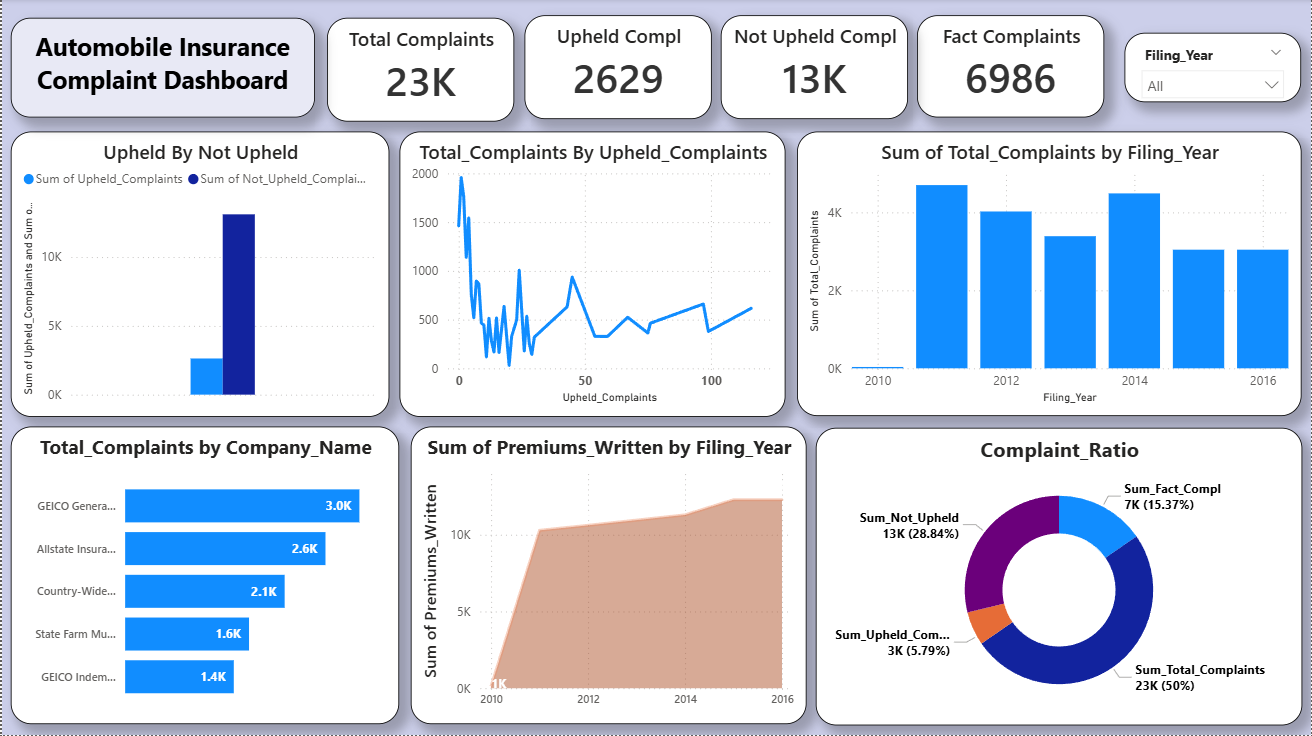

What the dashboard file says about the page in this screenshot:
{"tool":"powerbi","page":{"name":"Page 1","canvas":[1280,720],"ordinal":0},"visuals":[{"type":"card","title":"Total Complaints","fields":{"Values":["Sum(job market analysis.Total_Complaints)"]},"box":[318.1,18,183.4,101.3],"z":0},{"type":"card","title":"Upheld Compl","fields":{"Values":["Sum(job market analysis.Upheld_Complaints)"]},"box":[510.6,15.4,183.4,101.3],"z":1000},{"type":"card","title":"Fact Complaints","fields":{"Values":["Sum(job market analysis.Question_of_Fact_Complaints)"]},"box":[895.1,15.9,183.4,100.3],"z":2000},{"type":"card","title":"Not Upheld Compl","fields":{"Values":["Sum(job market analysis.Not_Upheld_Complaints)"]},"box":[703,15.4,183.4,101.3],"z":3000},{"type":"clusteredColumnChart","title":"Upheld By Not Upheld","fields":{"Y":["Sum(job market analysis.Upheld_Complaints)","Sum(job market analysis.Not_Upheld_Complaints)"]},"box":[8.6,129.6,370.5,278.8],"z":4000},{"type":"lineChart","title":"Total_Complaints By Upheld_Complaints","fields":{"Category":["job market analysis.Upheld_Complaints"],"Y":["Sum(job market analysis.Total_Complaints)"]},"box":[388.9,129.6,377.9,278.8],"z":5000},{"type":"clusteredColumnChart","fields":{"Category":["job market analysis.Filing_Year"],"Y":["Sum(job market analysis.Total_Complaints)"]},"box":[778.1,129.9,493.4,278.5],"z":6000},{"type":"barChart","title":"Total_Complaints by Company_Name","fields":{"Category":["job market analysis.Company_Name"],"Y":["Sum(job market analysis.Total_Complaints)"]},"box":[8.6,418.2,380.3,291],"z":7000},{"type":"areaChart","fields":{"Category":["job market analysis.Filing_Year"],"Y":["Sum(job market analysis.Premiums_Written)"]},"box":[399.7,418.4,387.2,291],"z":8000},{"type":"donutChart","title":"Complaint_Ratio","fields":{"Y":["job market analysis.Sum_Fact_Compl","job market analysis.Sum_Total_Complaints","job market analysis.Sum_Upheld_Complaints","job market analysis.Sum_Not_Upheld"]},"box":[795.6,419.7,475.9,291],"z":9000},{"type":"textbox","box":[9,18,297.6,97.5],"z":10000},{"type":"slicer","fields":{"Values":["job market analysis.Filing_Year"]},"box":[1098.1,33.4,173.2,68],"z":11000}]}

Visuals, with their boxes in screenshot pixels (x1, y1, x2, y2), scaled from the page's 1280x720 canvas onto the 1312x736 screenshot:
"Total Complaints" card: box(326, 18, 514, 122)
"Upheld Compl" card: box(523, 16, 711, 119)
"Fact Complaints" card: box(917, 16, 1105, 119)
"Not Upheld Compl" card: box(721, 16, 909, 119)
"Upheld By Not Upheld" clusteredColumnChart: box(9, 132, 389, 417)
"Total_Complaints By Upheld_Complaints" lineChart: box(399, 132, 786, 417)
clusteredColumnChart - job market analysis.Filing_Year x Sum(job market analysis.Total_Complaints): box(798, 133, 1303, 417)
"Total_Complaints by Company_Name" barChart: box(9, 427, 399, 725)
areaChart - job market analysis.Filing_Year x Sum(job market analysis.Premiums_Written): box(410, 428, 807, 725)
"Complaint_Ratio" donutChart: box(815, 429, 1303, 726)
textbox: box(9, 18, 314, 118)
slicer - job market analysis.Filing_Year: box(1126, 34, 1303, 104)
